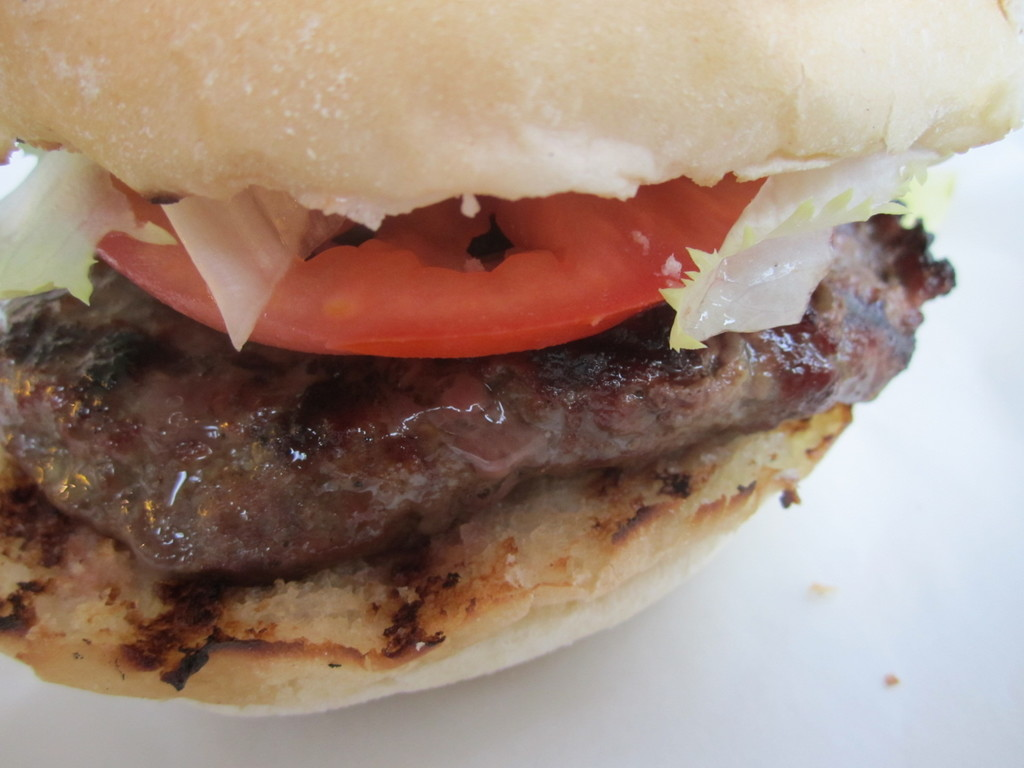Hamburger: (0, 0, 1023, 706)
